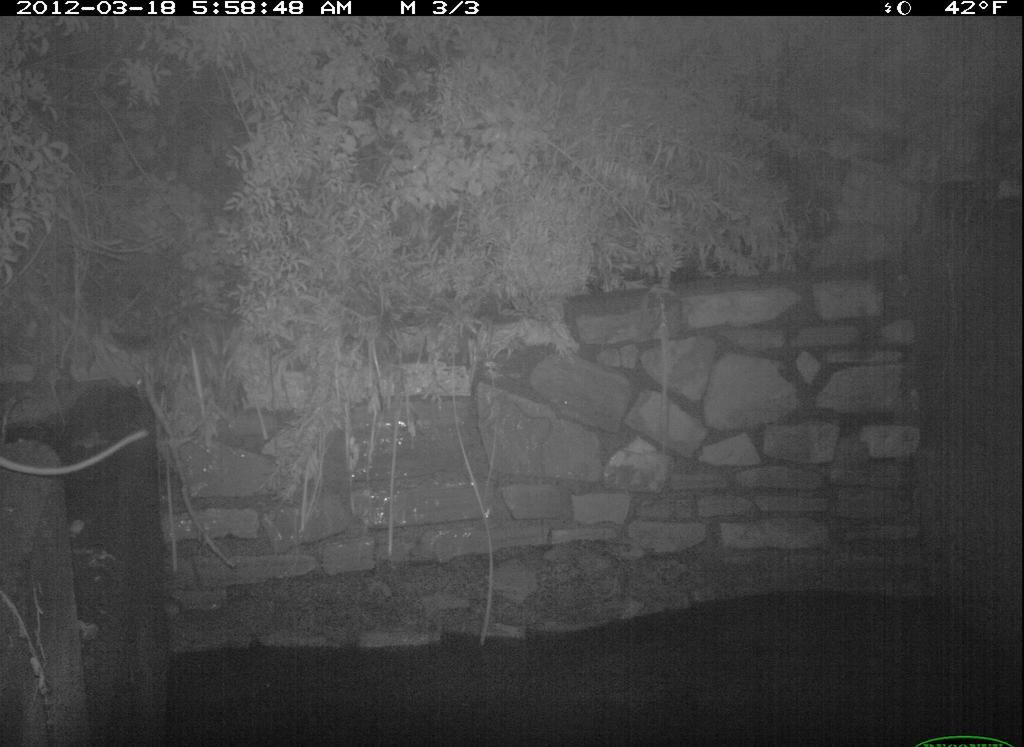rodent: (2, 415, 149, 490)
